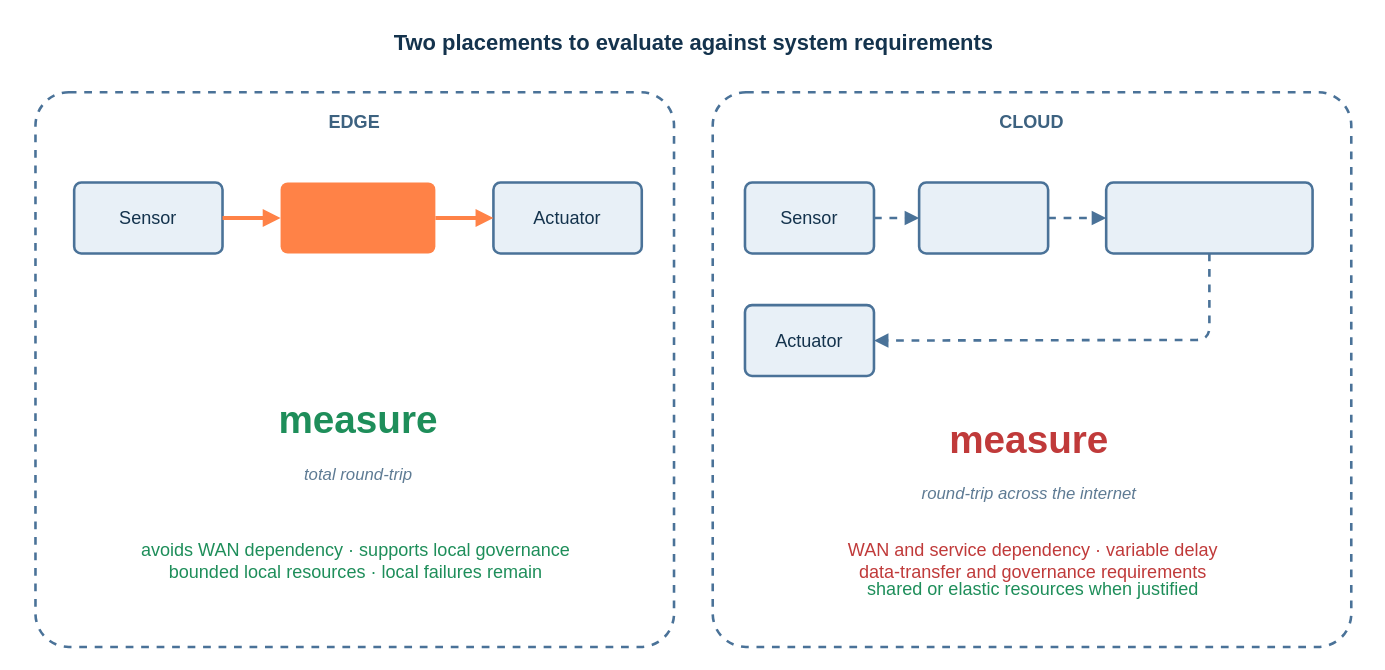
This 1385x670 diagram has some shape labels left out. The shapes that lost their labels are listed below. From the top down, each one's centre as x and y in pixels, then its label:
pixel 357 217: Controller local compute
pixel 983 217: Router
pixel 1208 217: Remote service
